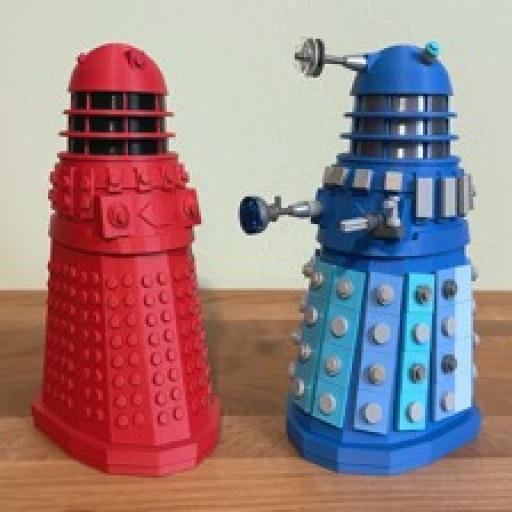dalek: (232, 31, 489, 470), (33, 44, 241, 478)
